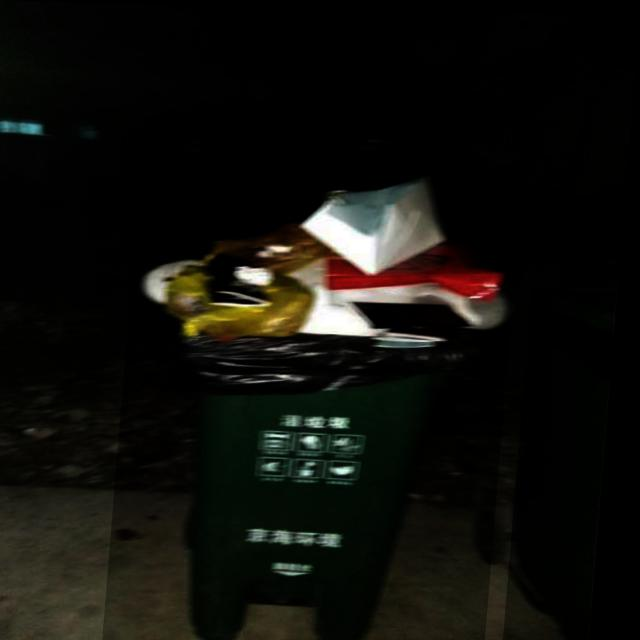garbage_bin: (513, 286, 621, 640)
overflow: (113, 166, 526, 640)
